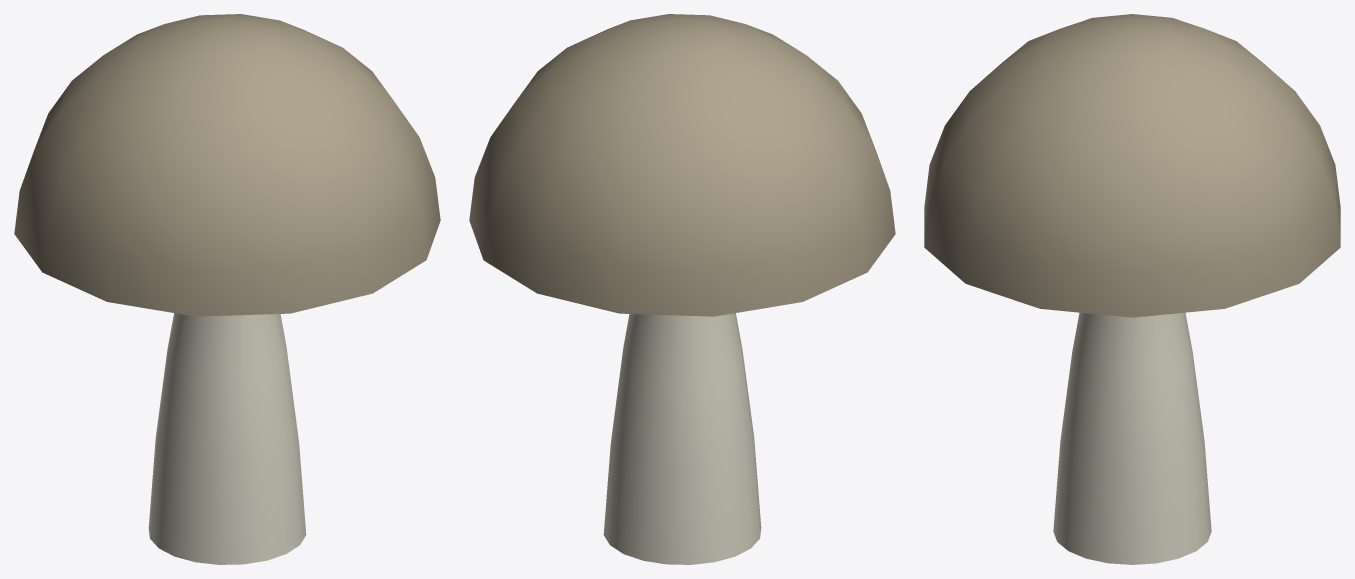
File: paddenstoel3.fbx
3 views of the same model, side by side, from view 1: azimuth 30°, elevation 25°; view 2: azimuth 150°, elevation 25°; view 3: azimuth 270°, elevation 25° (orthographic).
Visible parts, largest first — view 1: polySurface188; view 2: polySurface188; view 3: polySurface188.
Boxes of the visible parts, x1,y1,x2,y2 form: polySurface188: (14,14,440,564); polySurface188: (469,14,895,564); polySurface188: (924,14,1340,564).
Size of the model in its own units: 0.4257 by 0.5472 by 0.415.
